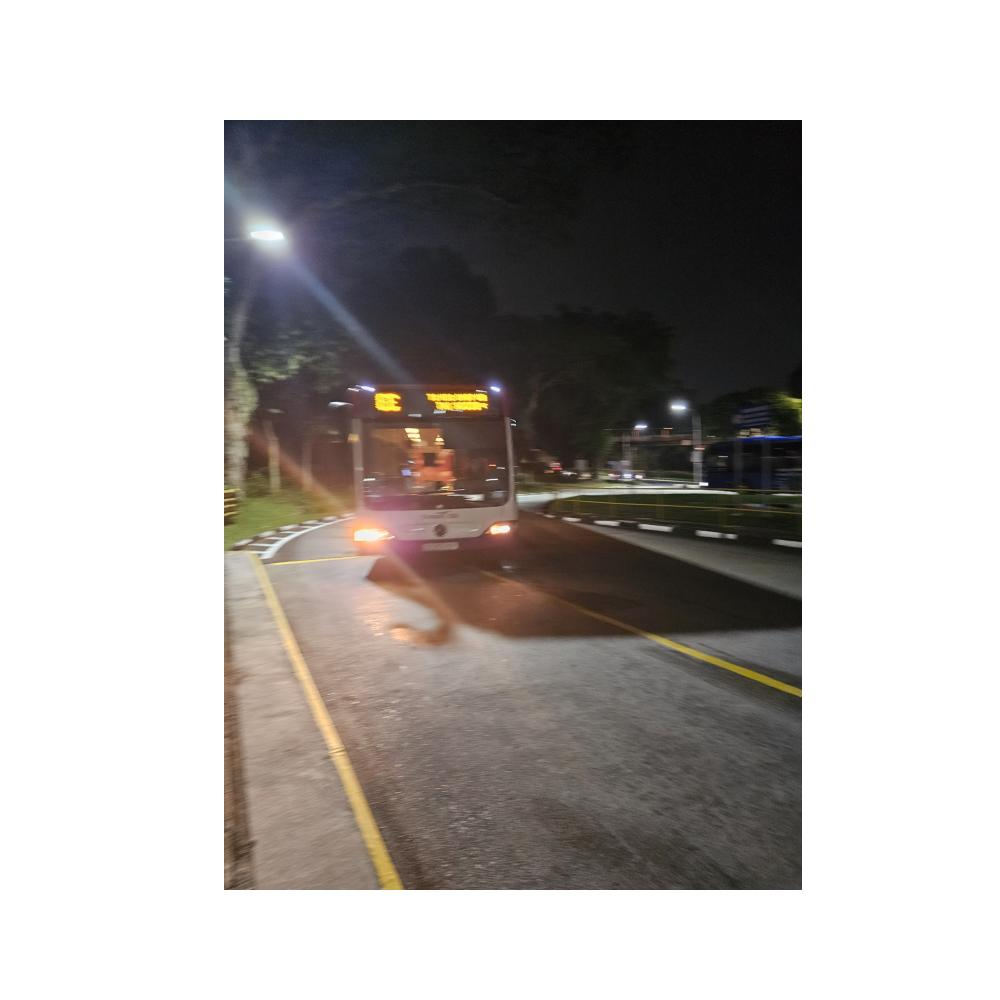bus: (342, 377, 528, 563)
